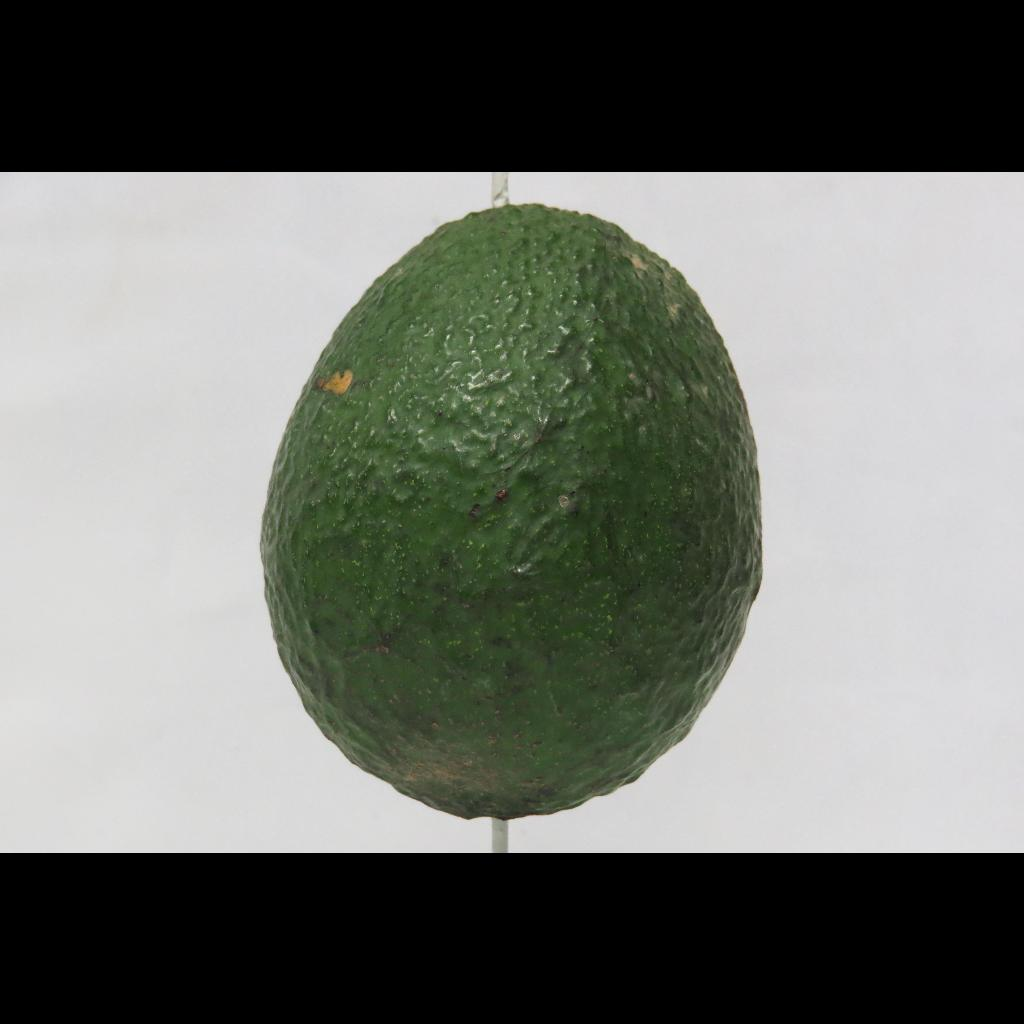Healthy: (166, 178, 814, 844)
